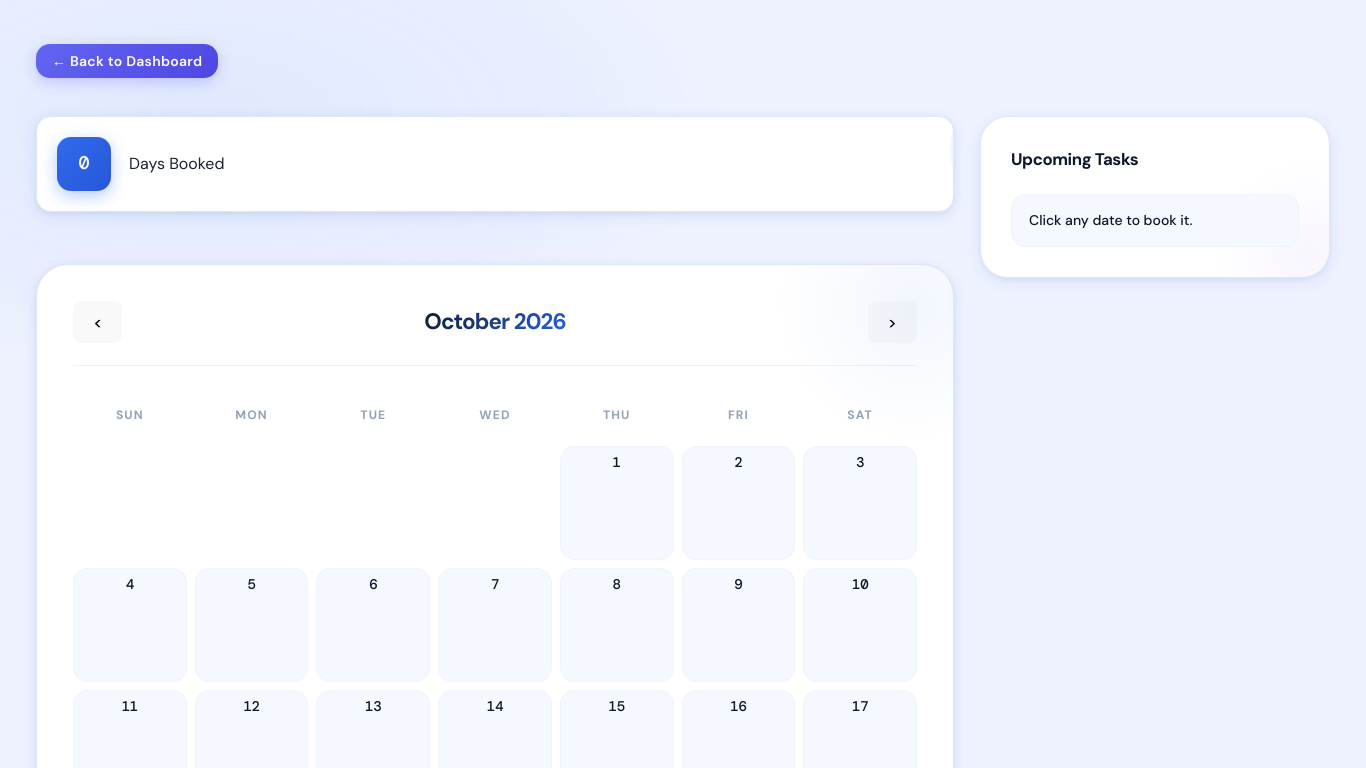
Test: ActivityCalendar › shows an error when booking without a logged in user
Click the element showing "1": point(617, 503) [560,446,674,560]
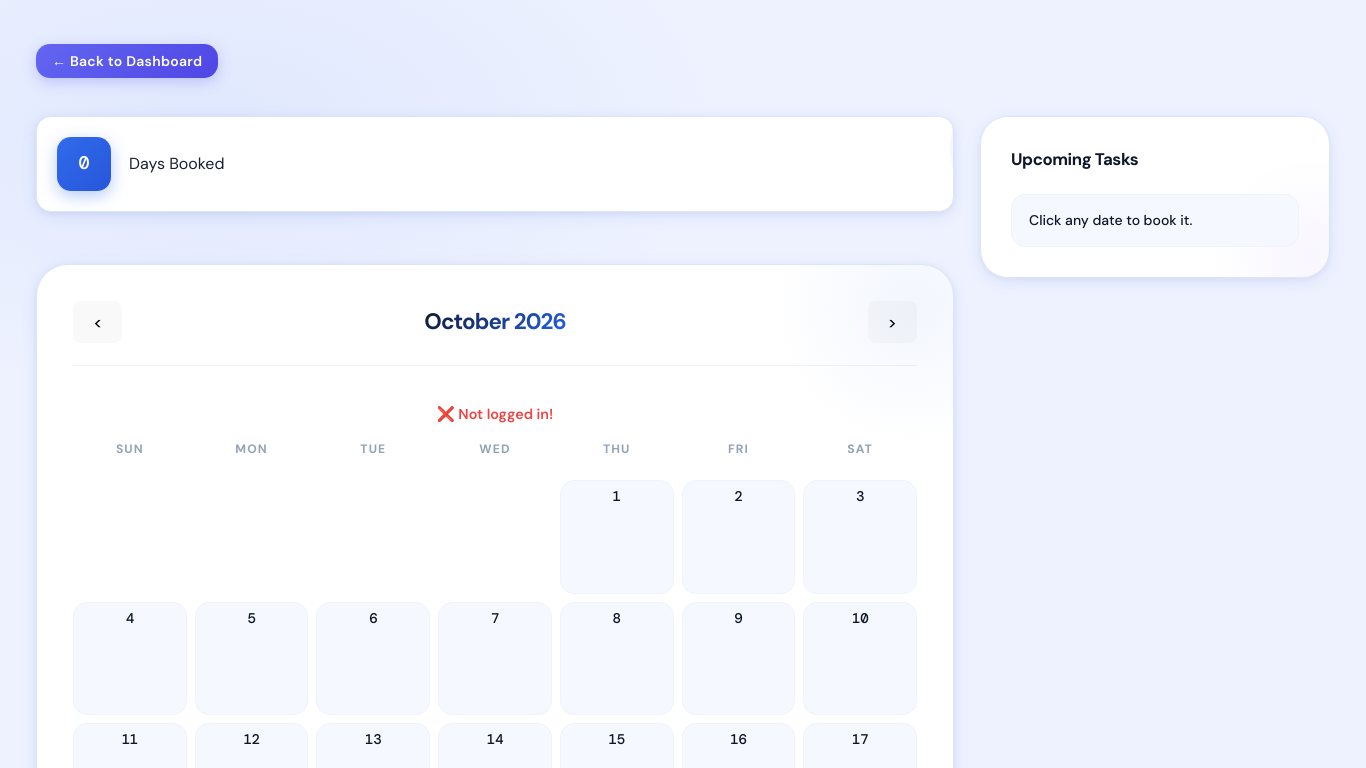
Expected: the text "❌ Not logged in!" is shown, [437,405,553,423]
